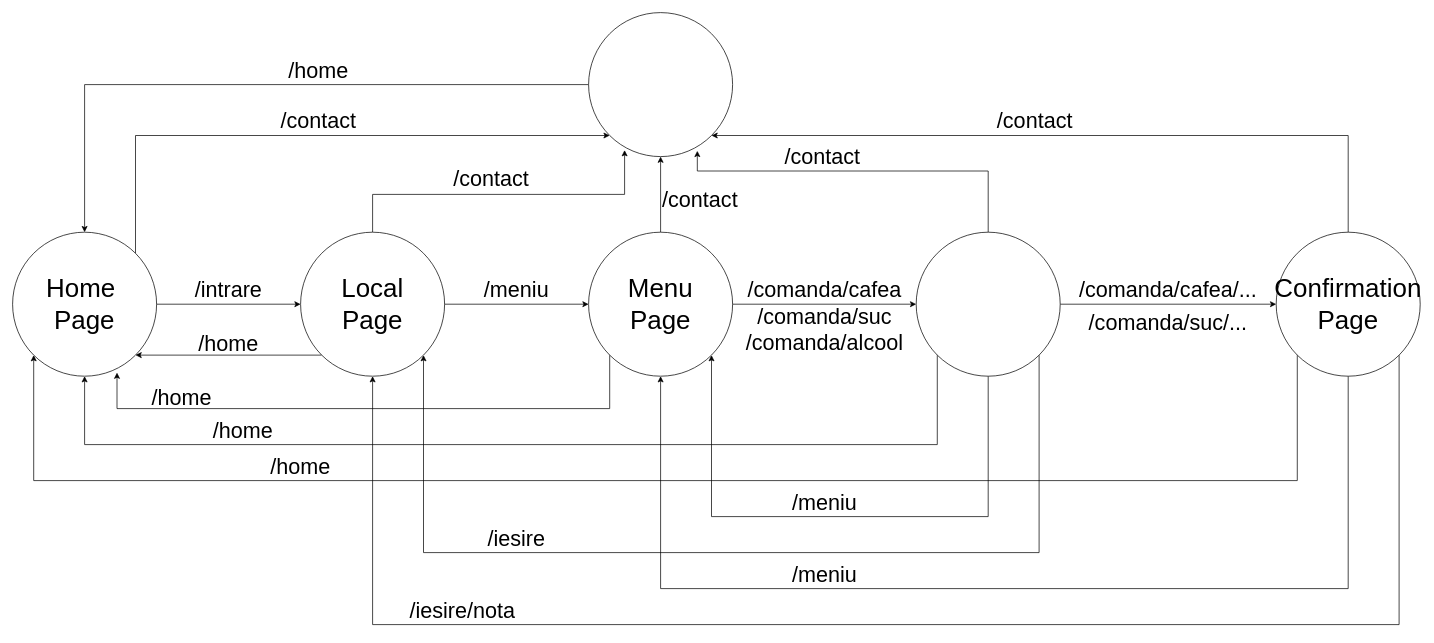
This 1434x643 diagram has some shape labels left out. The shapes that lost their labels are listed below. From the top down, each one's centre as x and y in pixels, then its label:
pixel 660 84: Contact Page
pixel 987 303: Products Page
